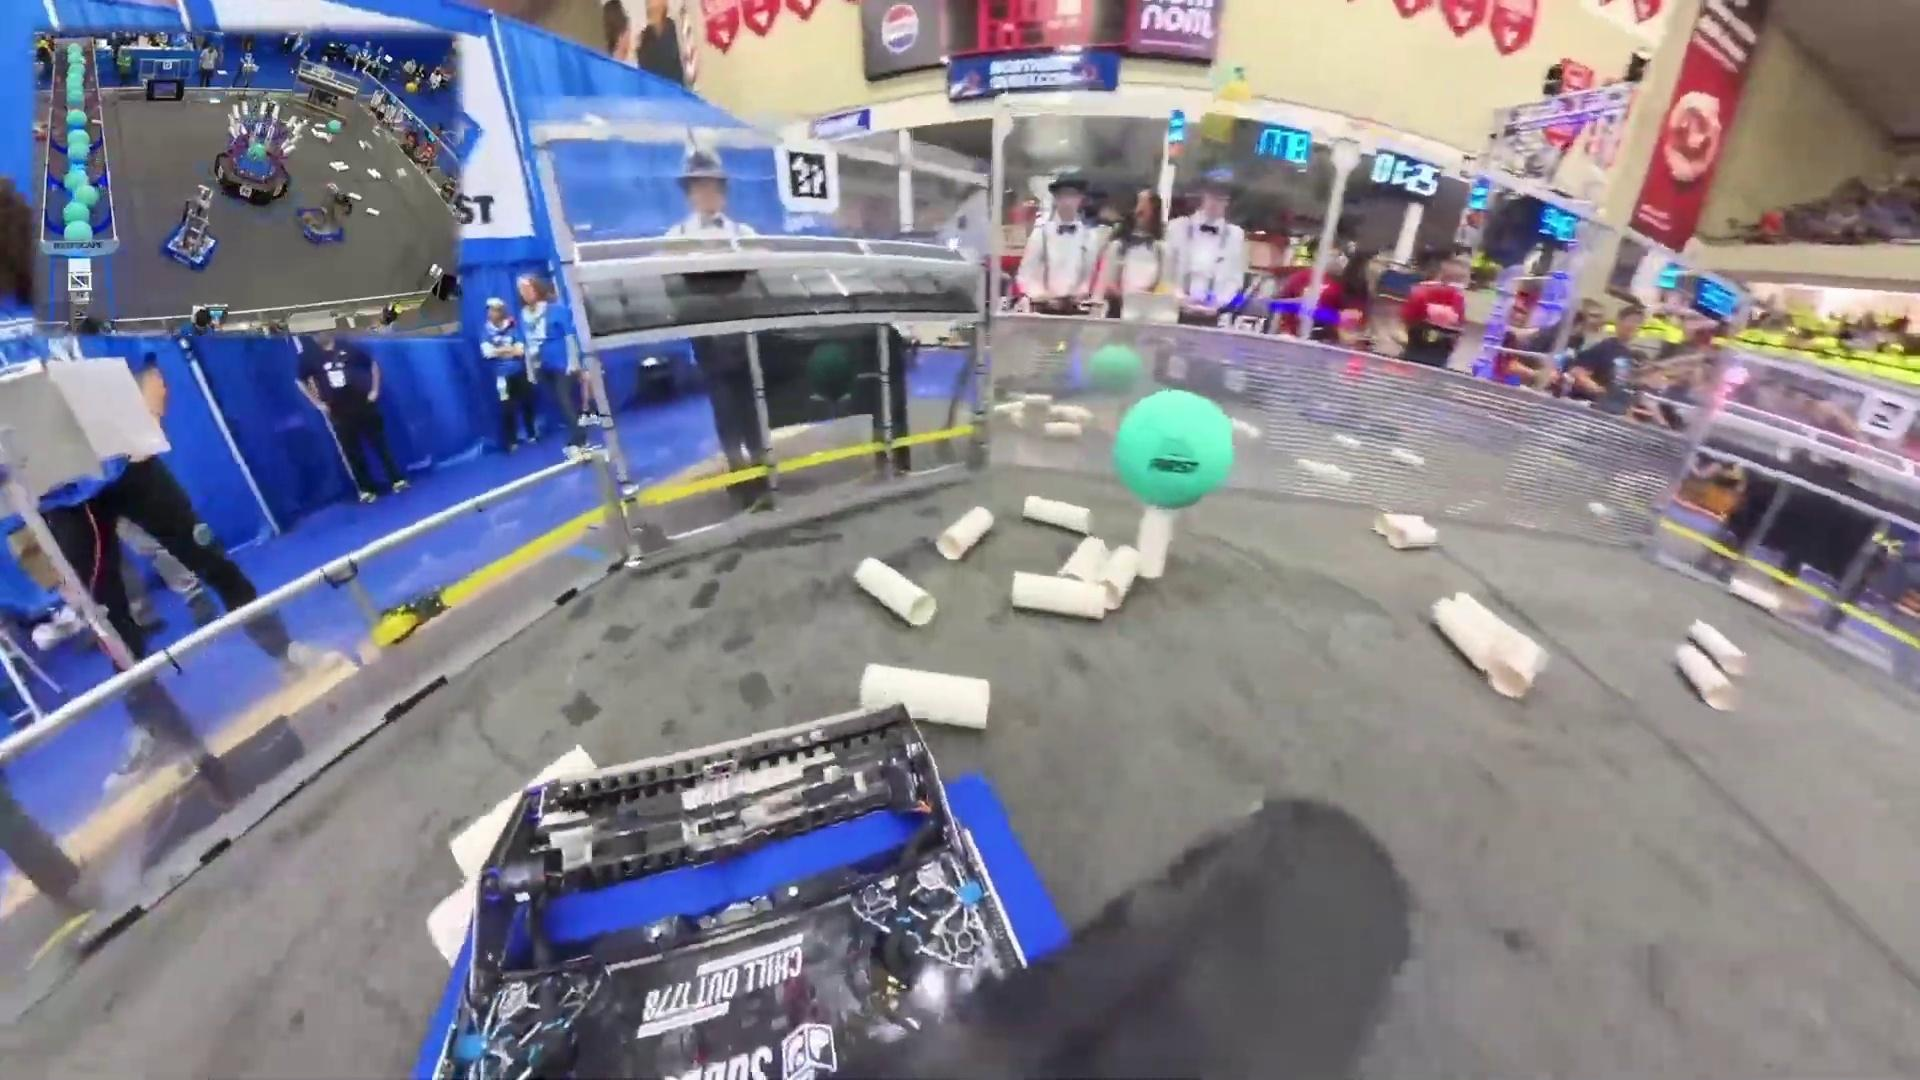robot: (161, 189, 218, 272), (298, 183, 352, 245)
